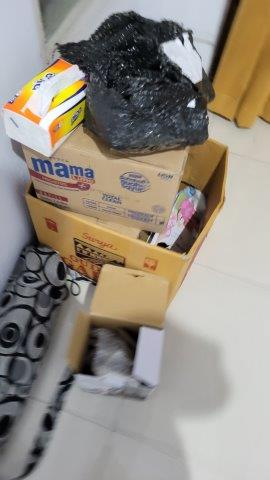kardus: (22, 136, 229, 300), (70, 264, 169, 402)
kertas: (165, 38, 206, 84)
